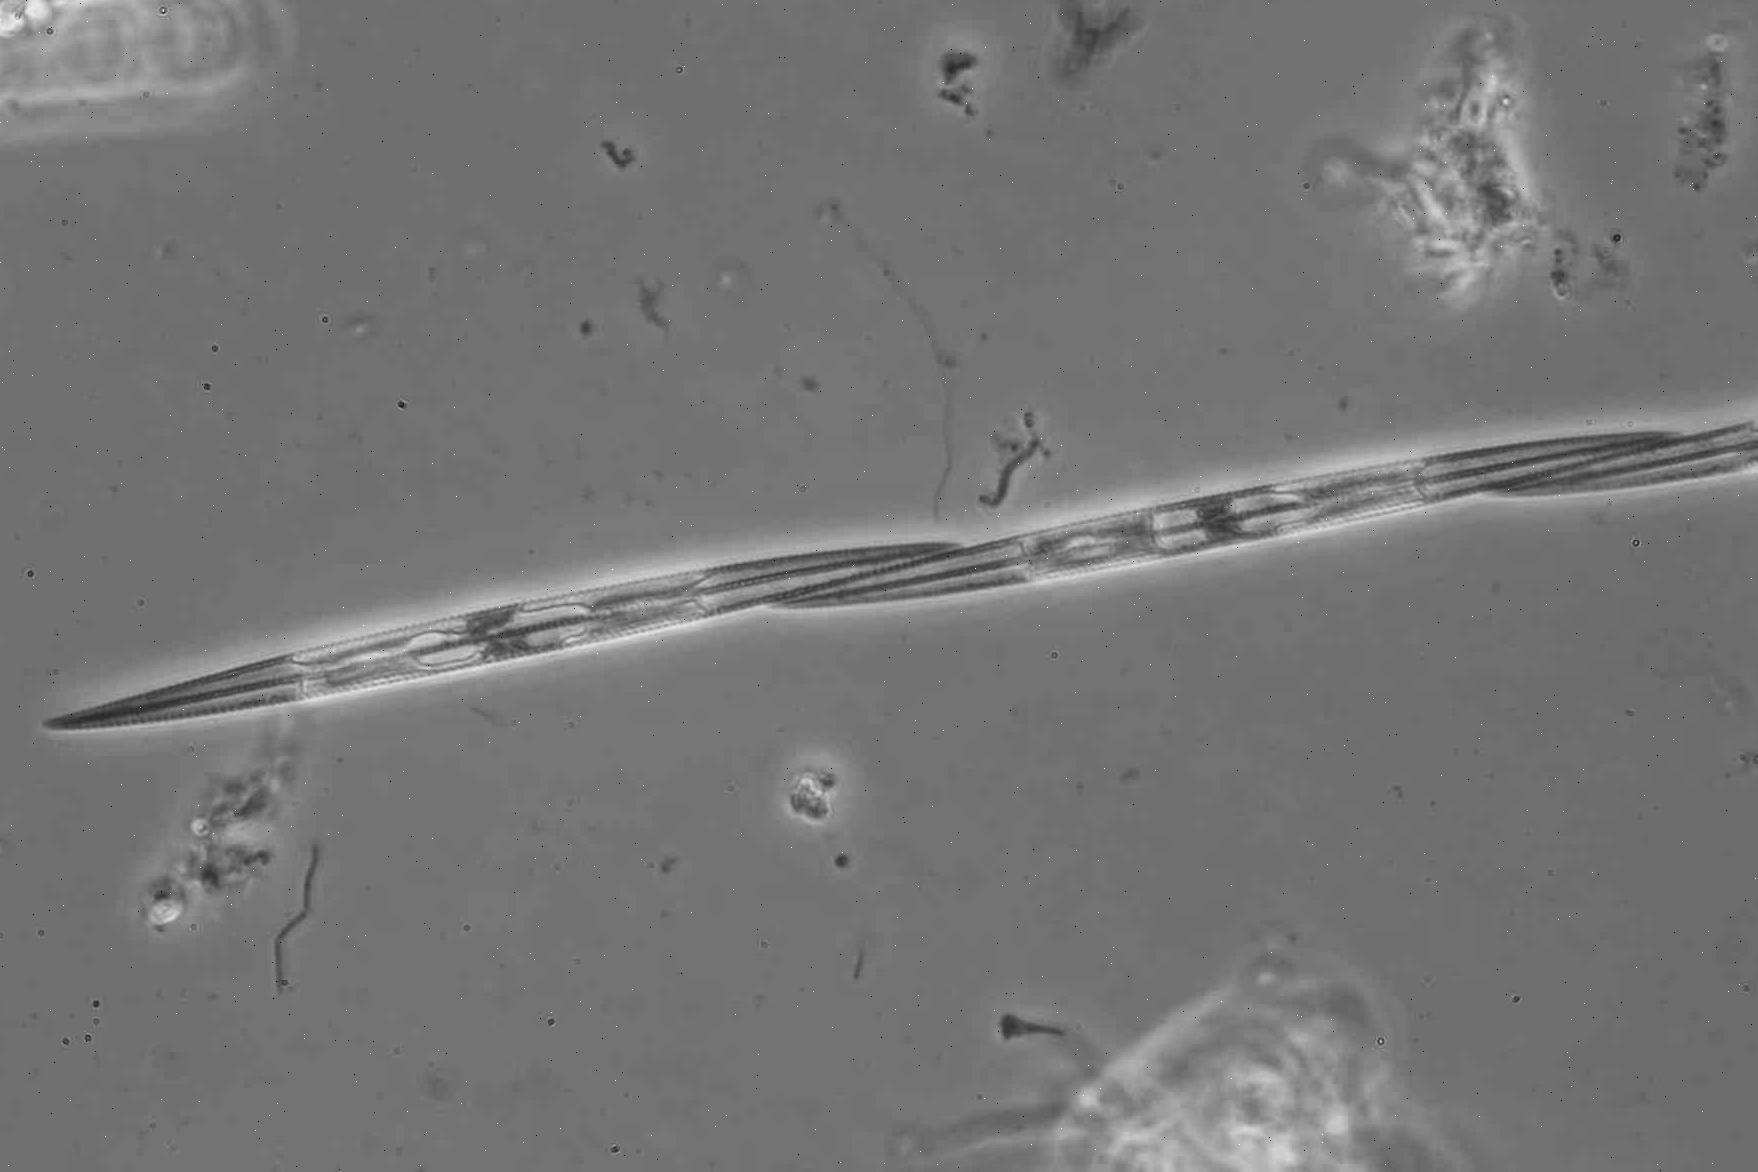pseudo_nitzschia: (33, 417, 1758, 734)
